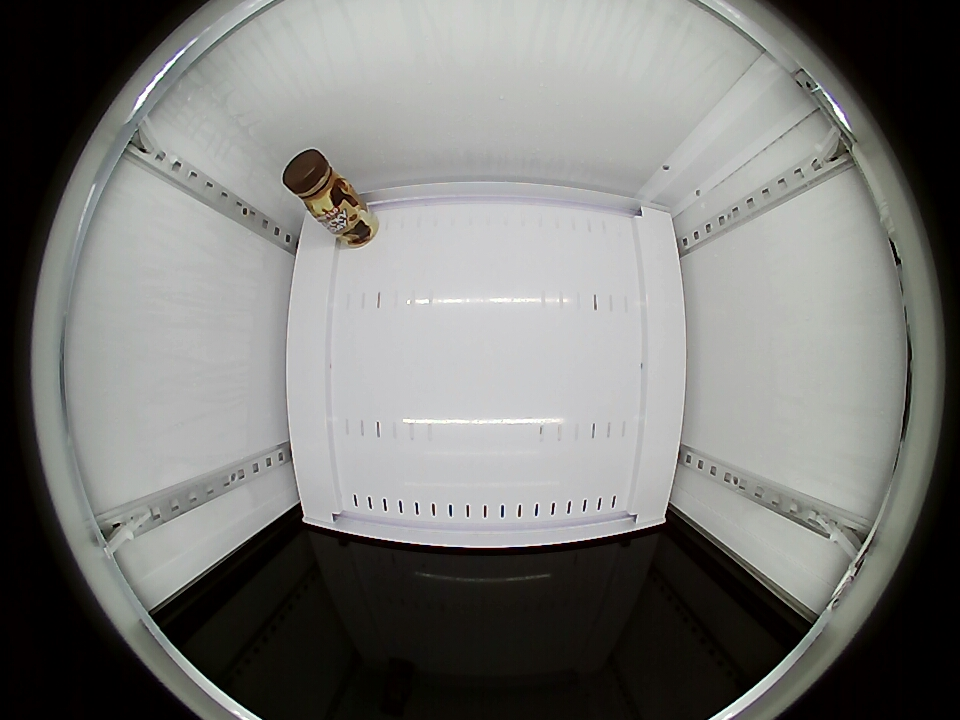lujikafei: (283, 149, 352, 220)
